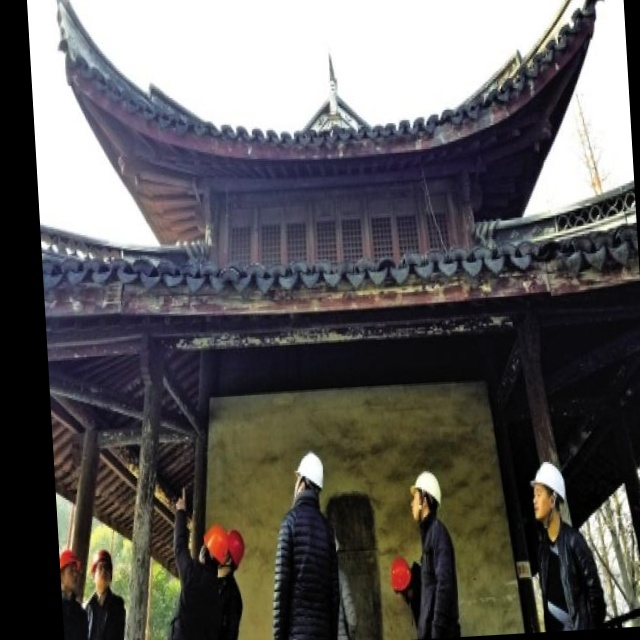Con_Casco: (529, 461, 568, 527), (408, 471, 442, 524)
